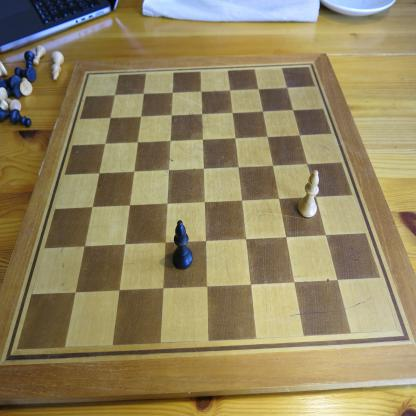black-bishop: (172, 220, 194, 270)
black-pawn: (10, 109, 32, 128)
white-bishop: (298, 170, 320, 218), (50, 50, 65, 82)
white-pawn: (32, 44, 46, 66)
